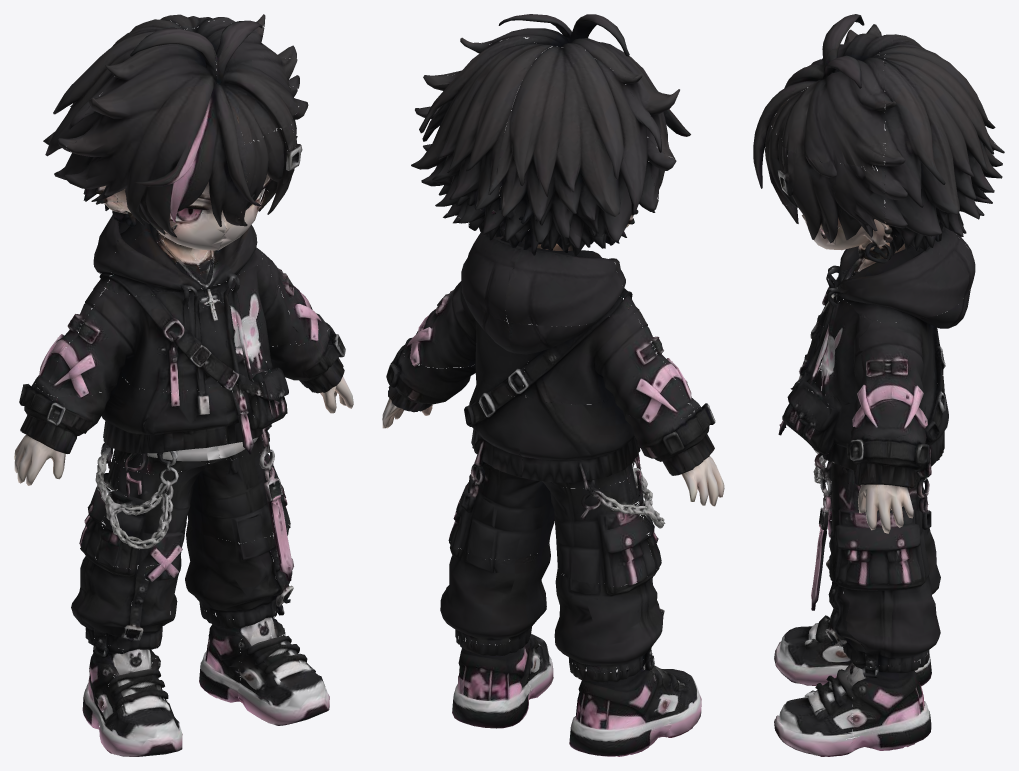
Rendered from studio-visitor-dusk-standing-v5.glb.
3 renders of one model, left to right at view 1: azimuth 30°, elevation 25°; view 2: azimuth 150°, elevation 25°; view 3: azimuth 270°, elevation 25°, orthographic. The views are drawn at different scales.
Visible parts, largest first — view 1: dusk_continuous_body; view 2: dusk_continuous_body; view 3: dusk_continuous_body.
Part boxes in pixels (x1,y1,x2,y2): dusk_continuous_body: (14,14,353,756); dusk_continuous_body: (382,14,724,756); dusk_continuous_body: (753,14,1004,756).
Bounding box in the file's own units: 0.58 × 1.17 × 0.3958.
Materials: 5 (5 with a texture image).
